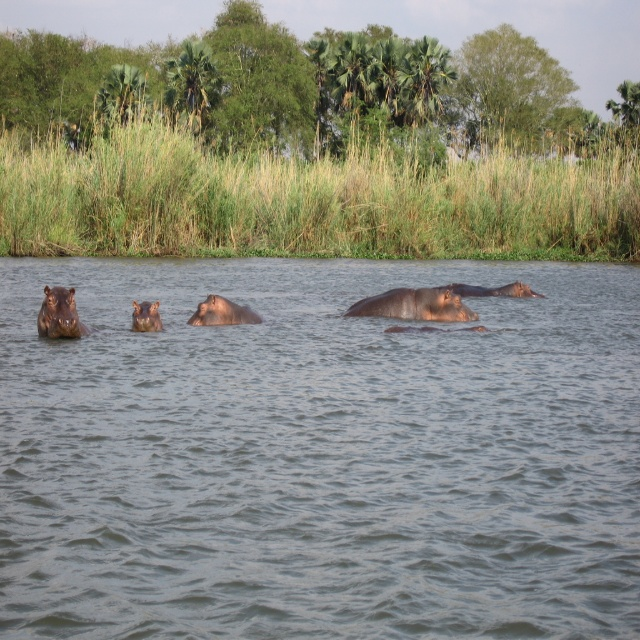Hippopotamus: (340, 285, 478, 321), (35, 283, 86, 342), (186, 294, 263, 325), (130, 301, 158, 333)
